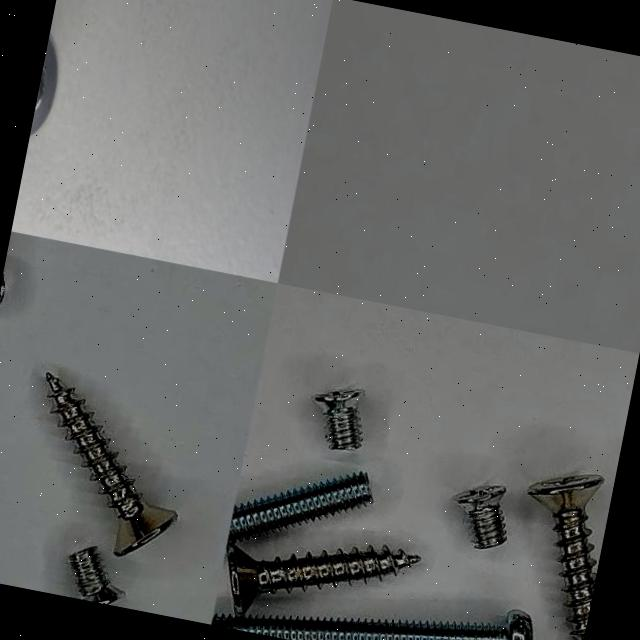Screw: (46, 373, 178, 558), (227, 546, 421, 615), (529, 475, 605, 640), (227, 473, 371, 543), (211, 610, 534, 640), (454, 485, 508, 549), (70, 548, 125, 605), (315, 389, 364, 451), (30, 36, 58, 136), (0, 274, 7, 303)
